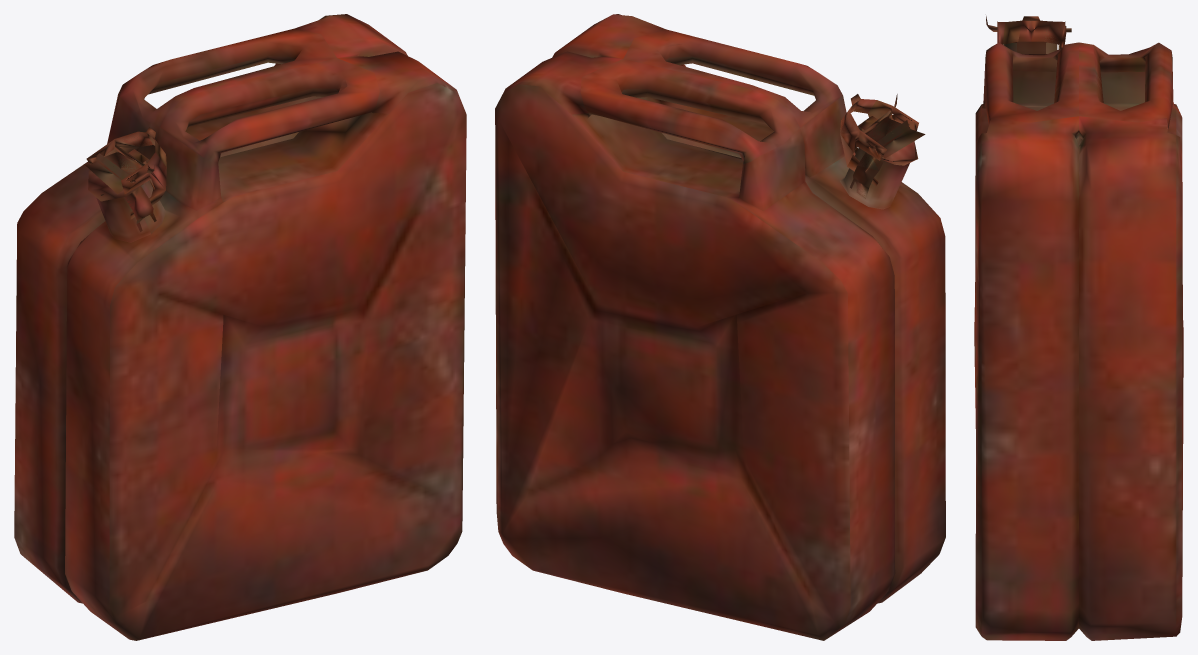
The model's file is metal_jerrycan.glb.
3 views of the same model, side by side, from view 1: azimuth 30°, elevation 25°; view 2: azimuth 150°, elevation 25°; view 3: azimuth 270°, elevation 25° (orthographic). The views are drawn at different scales.
Parts seen in each view (by area): view 1: metal_jerrycan; view 2: metal_jerrycan; view 3: metal_jerrycan.
Part boxes in pixels (x1,y1,x2,y2): metal_jerrycan: [14, 14, 466, 640]; metal_jerrycan: [495, 14, 945, 640]; metal_jerrycan: [974, 16, 1183, 640].
Bounding box in the file's own units: 0.3468 × 0.4538 × 0.1715.
Materials: 1 (1 with a texture image).
